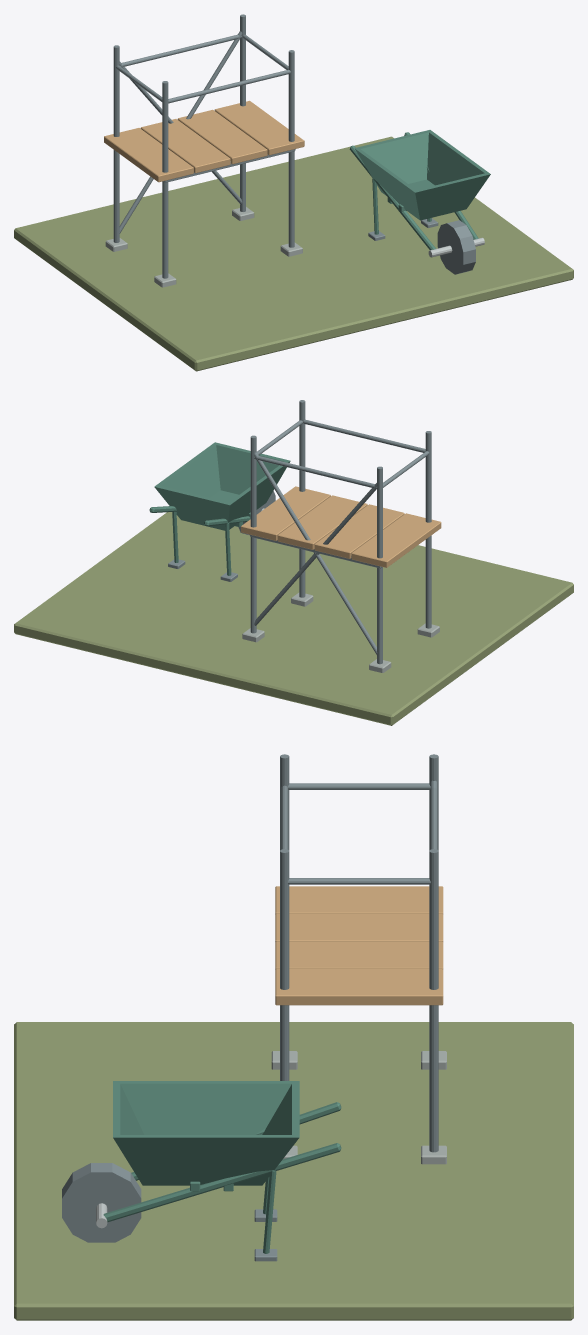
3 views of the same model, one above another, from view 1: azimuth 30°, elevation 25°; view 2: azimuth 150°, elevation 25°; view 3: azimuth 270°, elevation 25° (orthographic). The views are drawn at different scales.
Visible parts, largest first — view 1: construction-worksite-01; view 2: construction-worksite-01; view 3: construction-worksite-01.
Boxes of the visible parts, x1,y1,x2,y2 form: construction-worksite-01: (14,14,573,371); construction-worksite-01: (14,400,573,725); construction-worksite-01: (14,754,573,1320).
Size of the model in its own units: 3.6 by 1.92 by 3.
